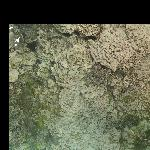dead: (11, 26, 148, 147)
